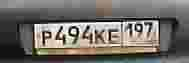license-plateSW: (31, 19, 159, 49)
